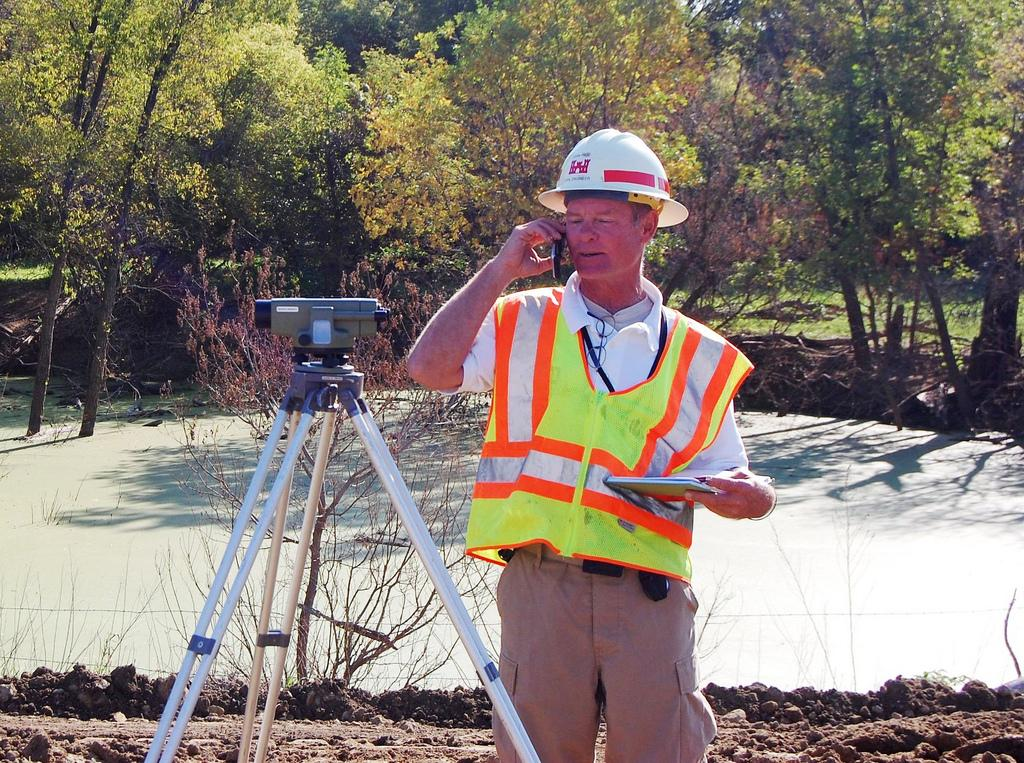helmet: (538, 128, 689, 279)
